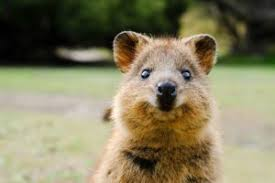quokka: (78, 26, 238, 183)
